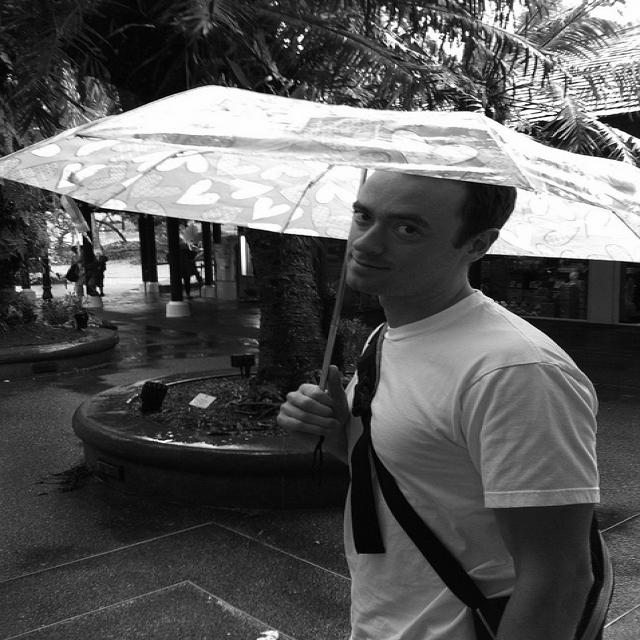monkey: (266, 171, 608, 631), (63, 245, 86, 295), (82, 253, 100, 297)
